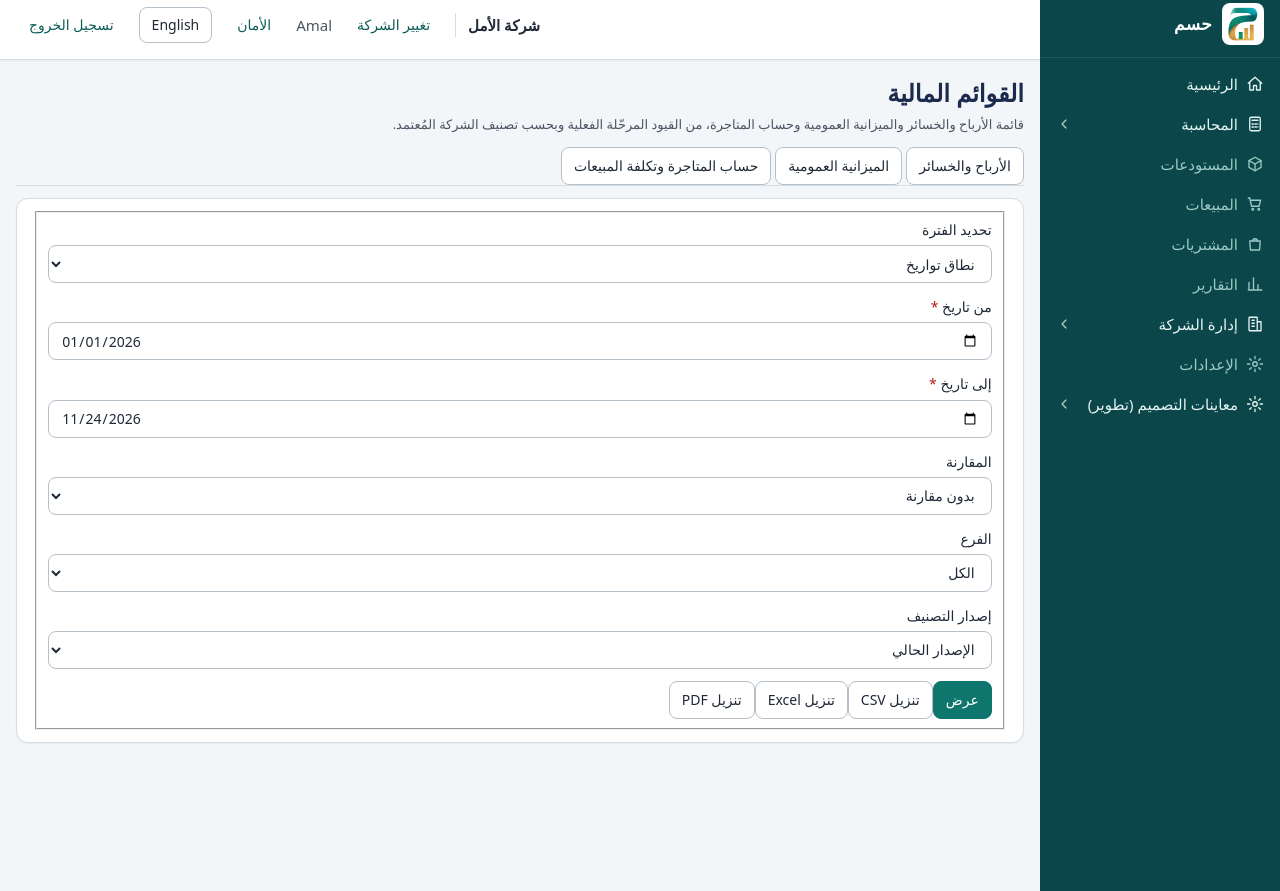
it: financial statements screen › shows the profit and loss from the server with exact amounts, the classification version and the passed checks
expect the element with test id "company-name" is shown: met, box 455,13 -> 540,37
Select "سنة مالية" in the dropdown labelled "تحديد الفترة". click: (520, 264)
box: 48,245 -> 992,283
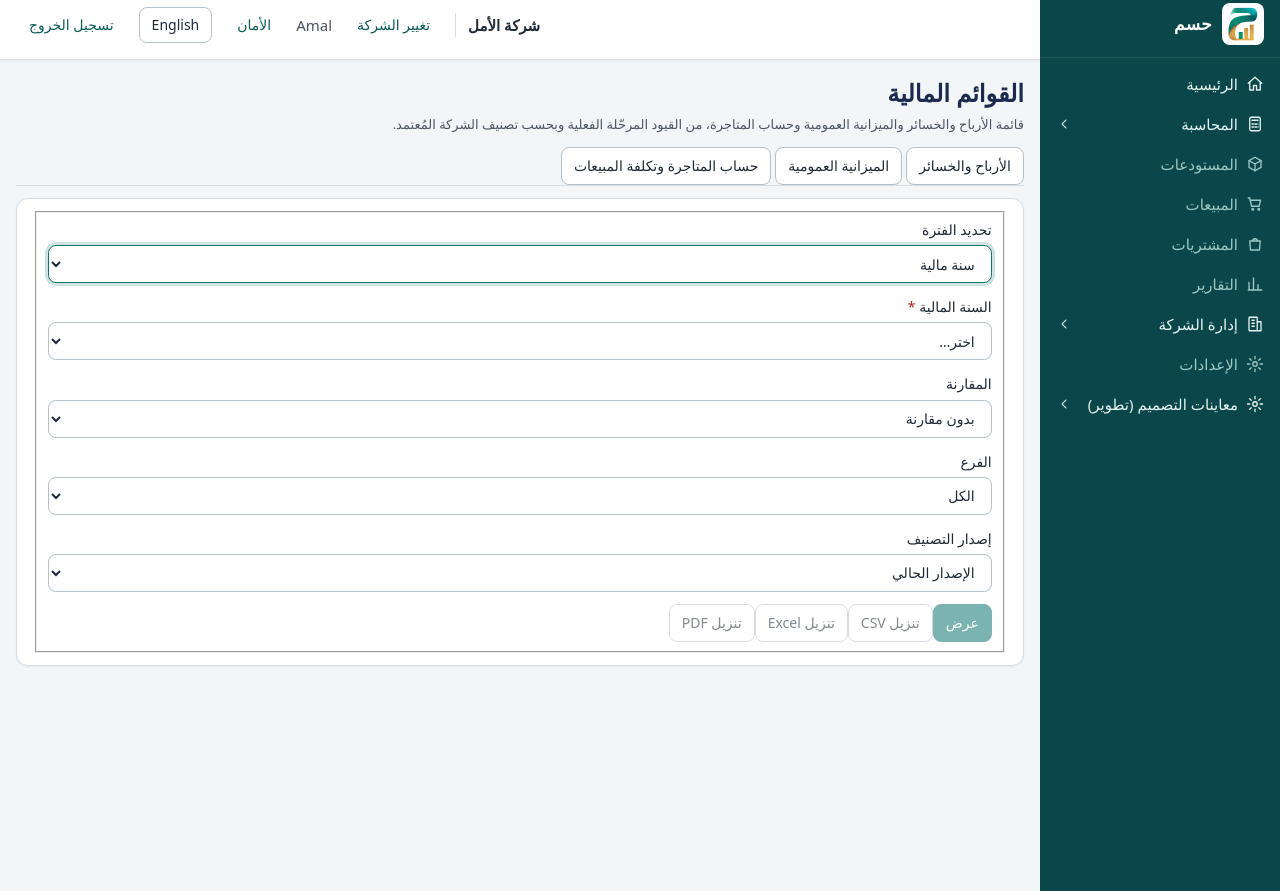
Select "FY2026 (2026-01-01 .. 2026-12-31)" in the dropdown labelled "السنة المالية *". click: (520, 342)
box: 48,322 -> 992,360
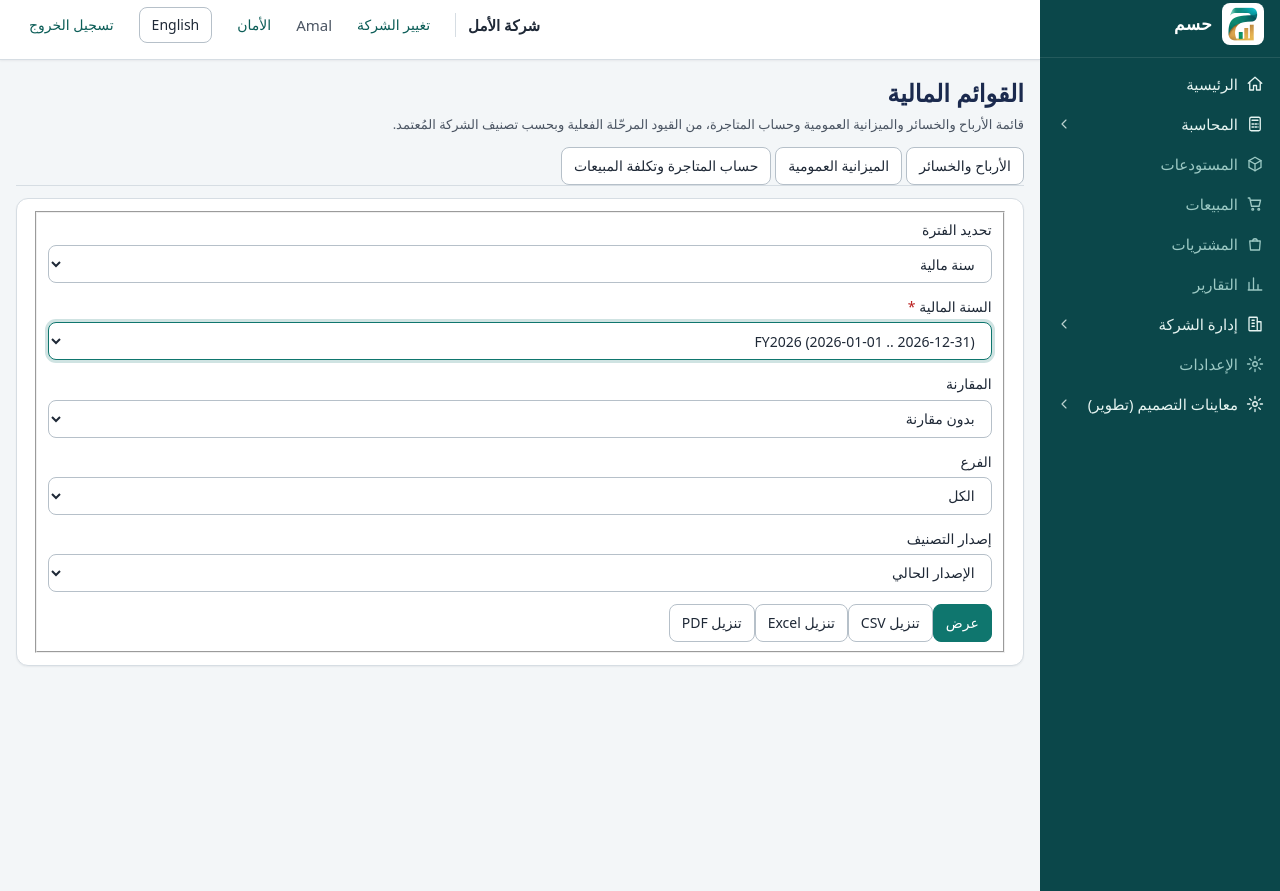
Click the button "عرض". click: (962, 623)
box: 933,604 -> 992,642
(page scrolled)
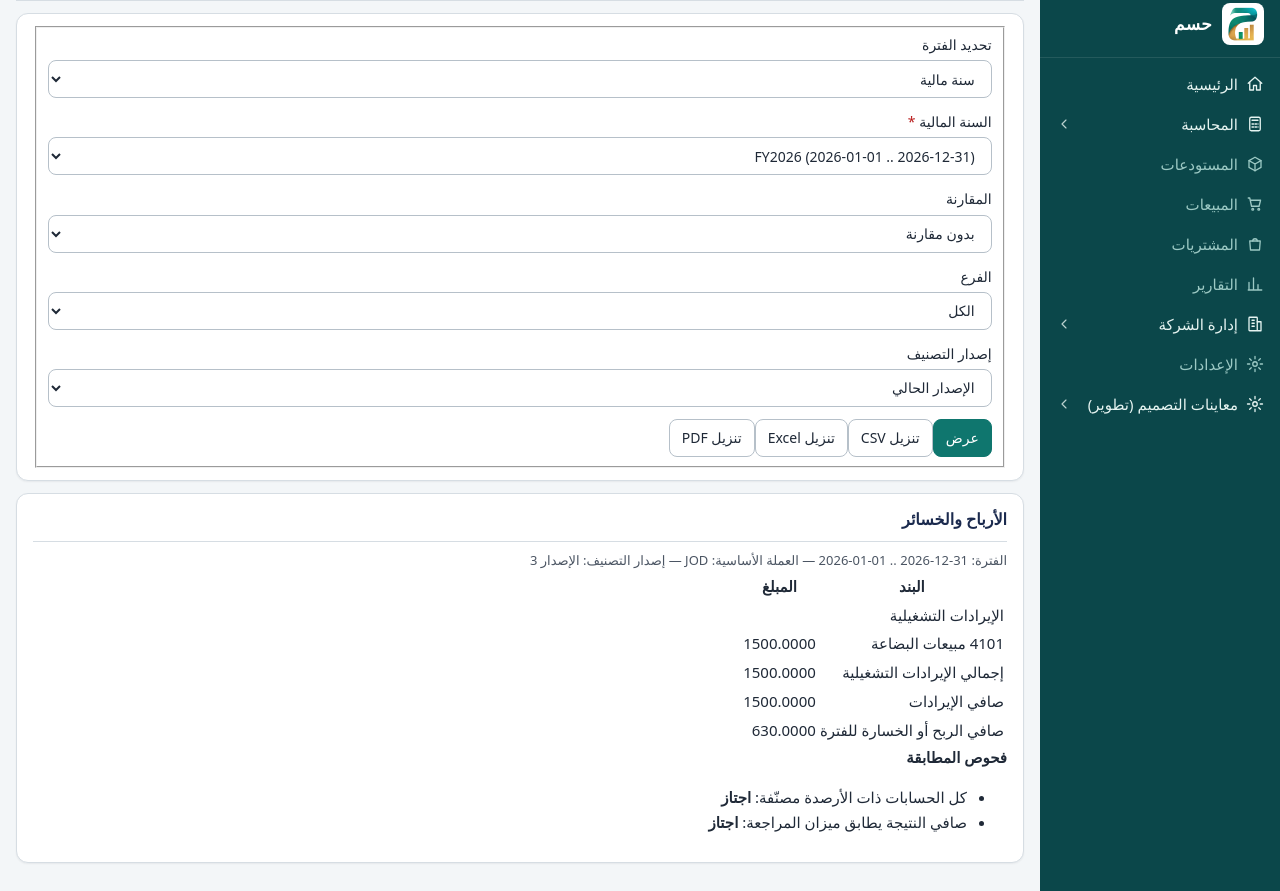
expect the row with test id "st-line-4101" shows "1500.0000": met, box 743,634 -> 816,654
expect the row with test id "st-line-net_result" shows "630.0000": met, box 752,720 -> 816,740
expect the row with test id "st-line-net_revenue" shows "صافي الإيرادات": met, box 909,691 -> 1004,711
